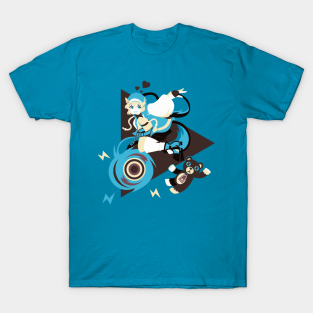design: (96, 78, 217, 205)
